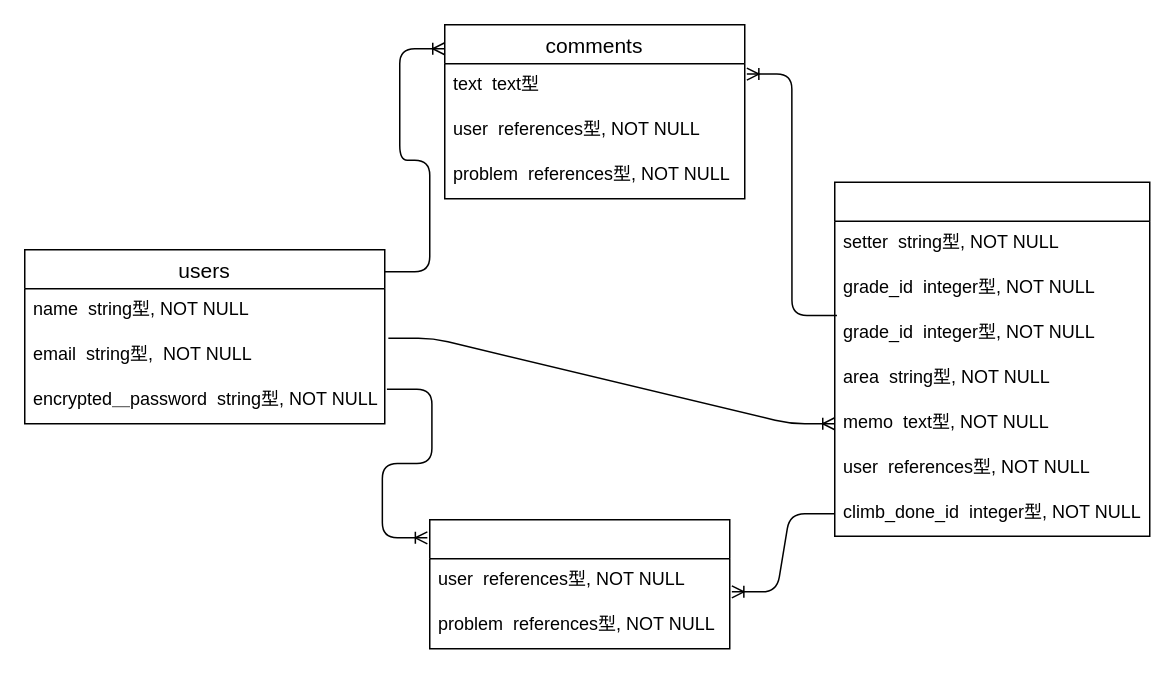
The diagram is 1175 pixels wide and 674 high, and some of its shapes have lost their labels. The box of each missing label's shape, as (x1, y1, x2, y2) in pixels:
likes: (428, 518, 730, 649)
problems: (833, 181, 1150, 536)
